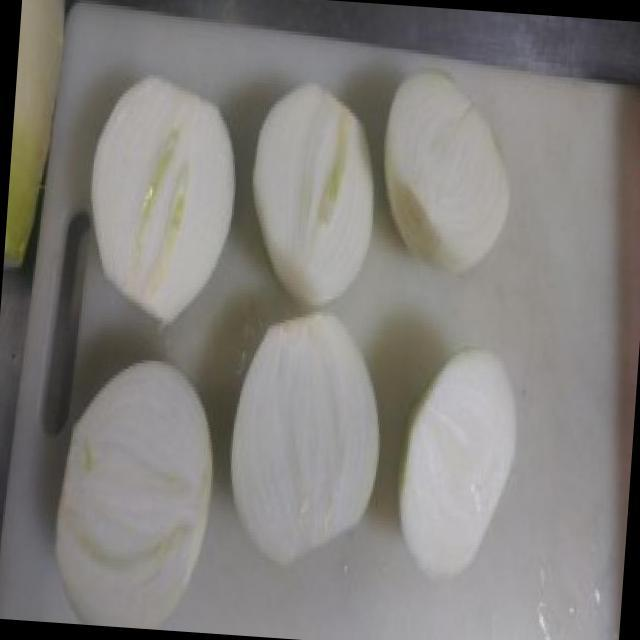Onion: (62, 359, 215, 620), (230, 310, 382, 563), (90, 81, 238, 319), (251, 83, 372, 310), (401, 350, 518, 583), (383, 71, 508, 273)
